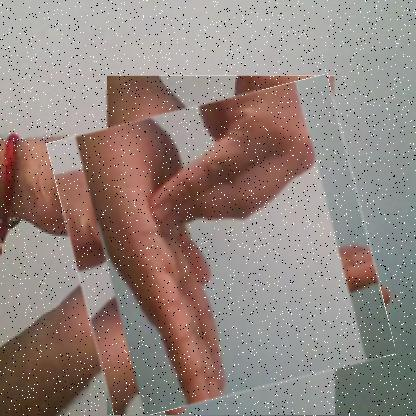Z: (62, 90, 381, 408)
